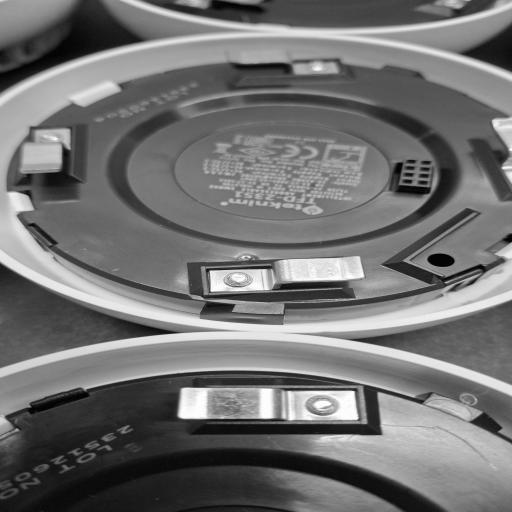konnektor: (382, 155, 444, 198)
yaysiz: (136, 378, 389, 435), (168, 249, 382, 302), (9, 119, 95, 193)
